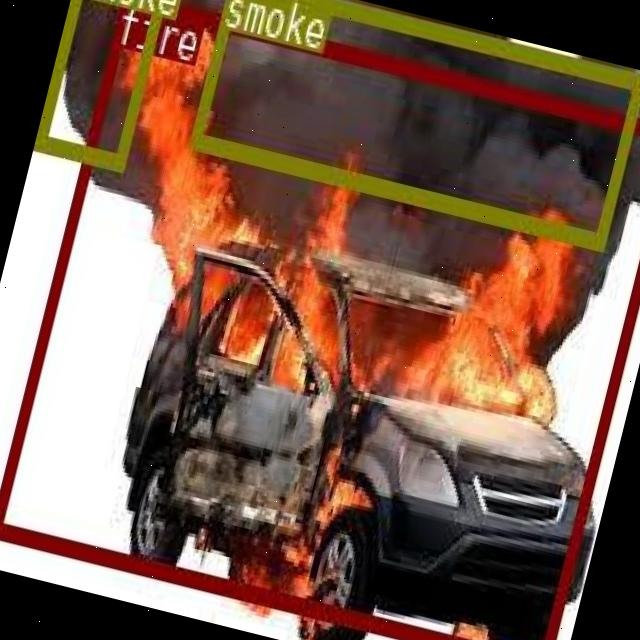fire: (0, 0, 640, 640)
smoke: (189, 0, 640, 245), (33, 0, 172, 169)
